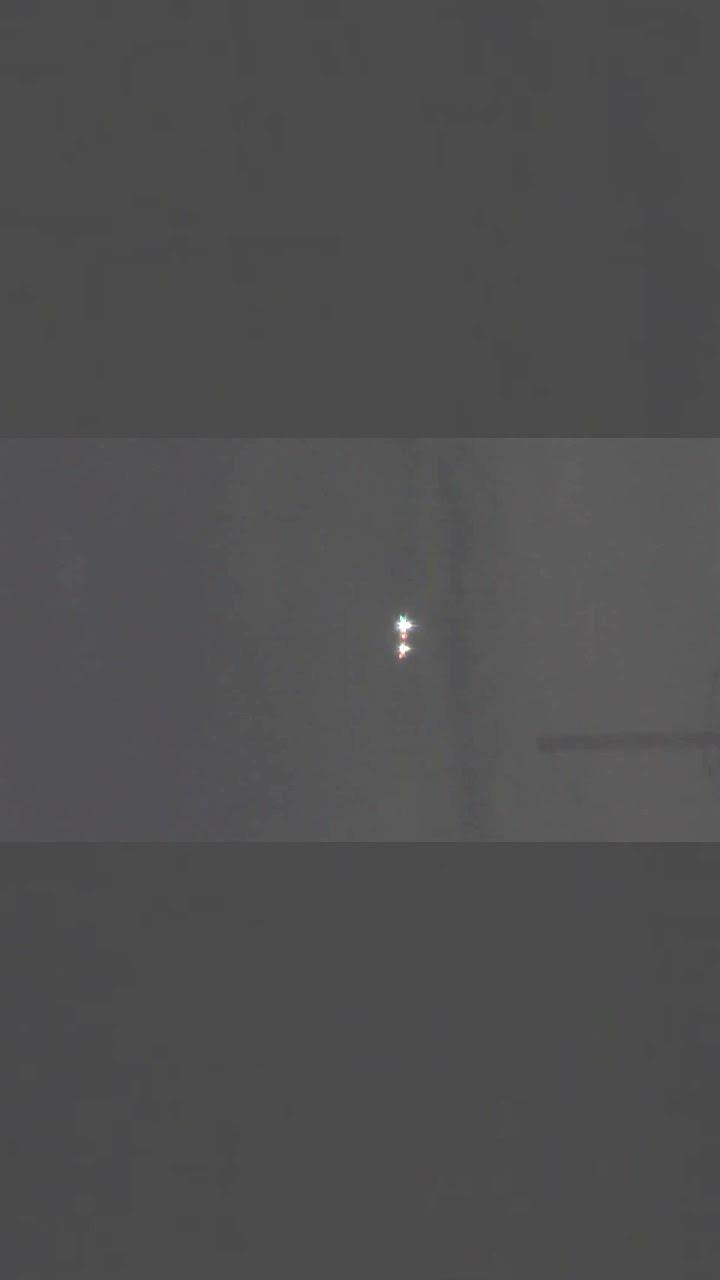Plane: (370, 583, 439, 685)
